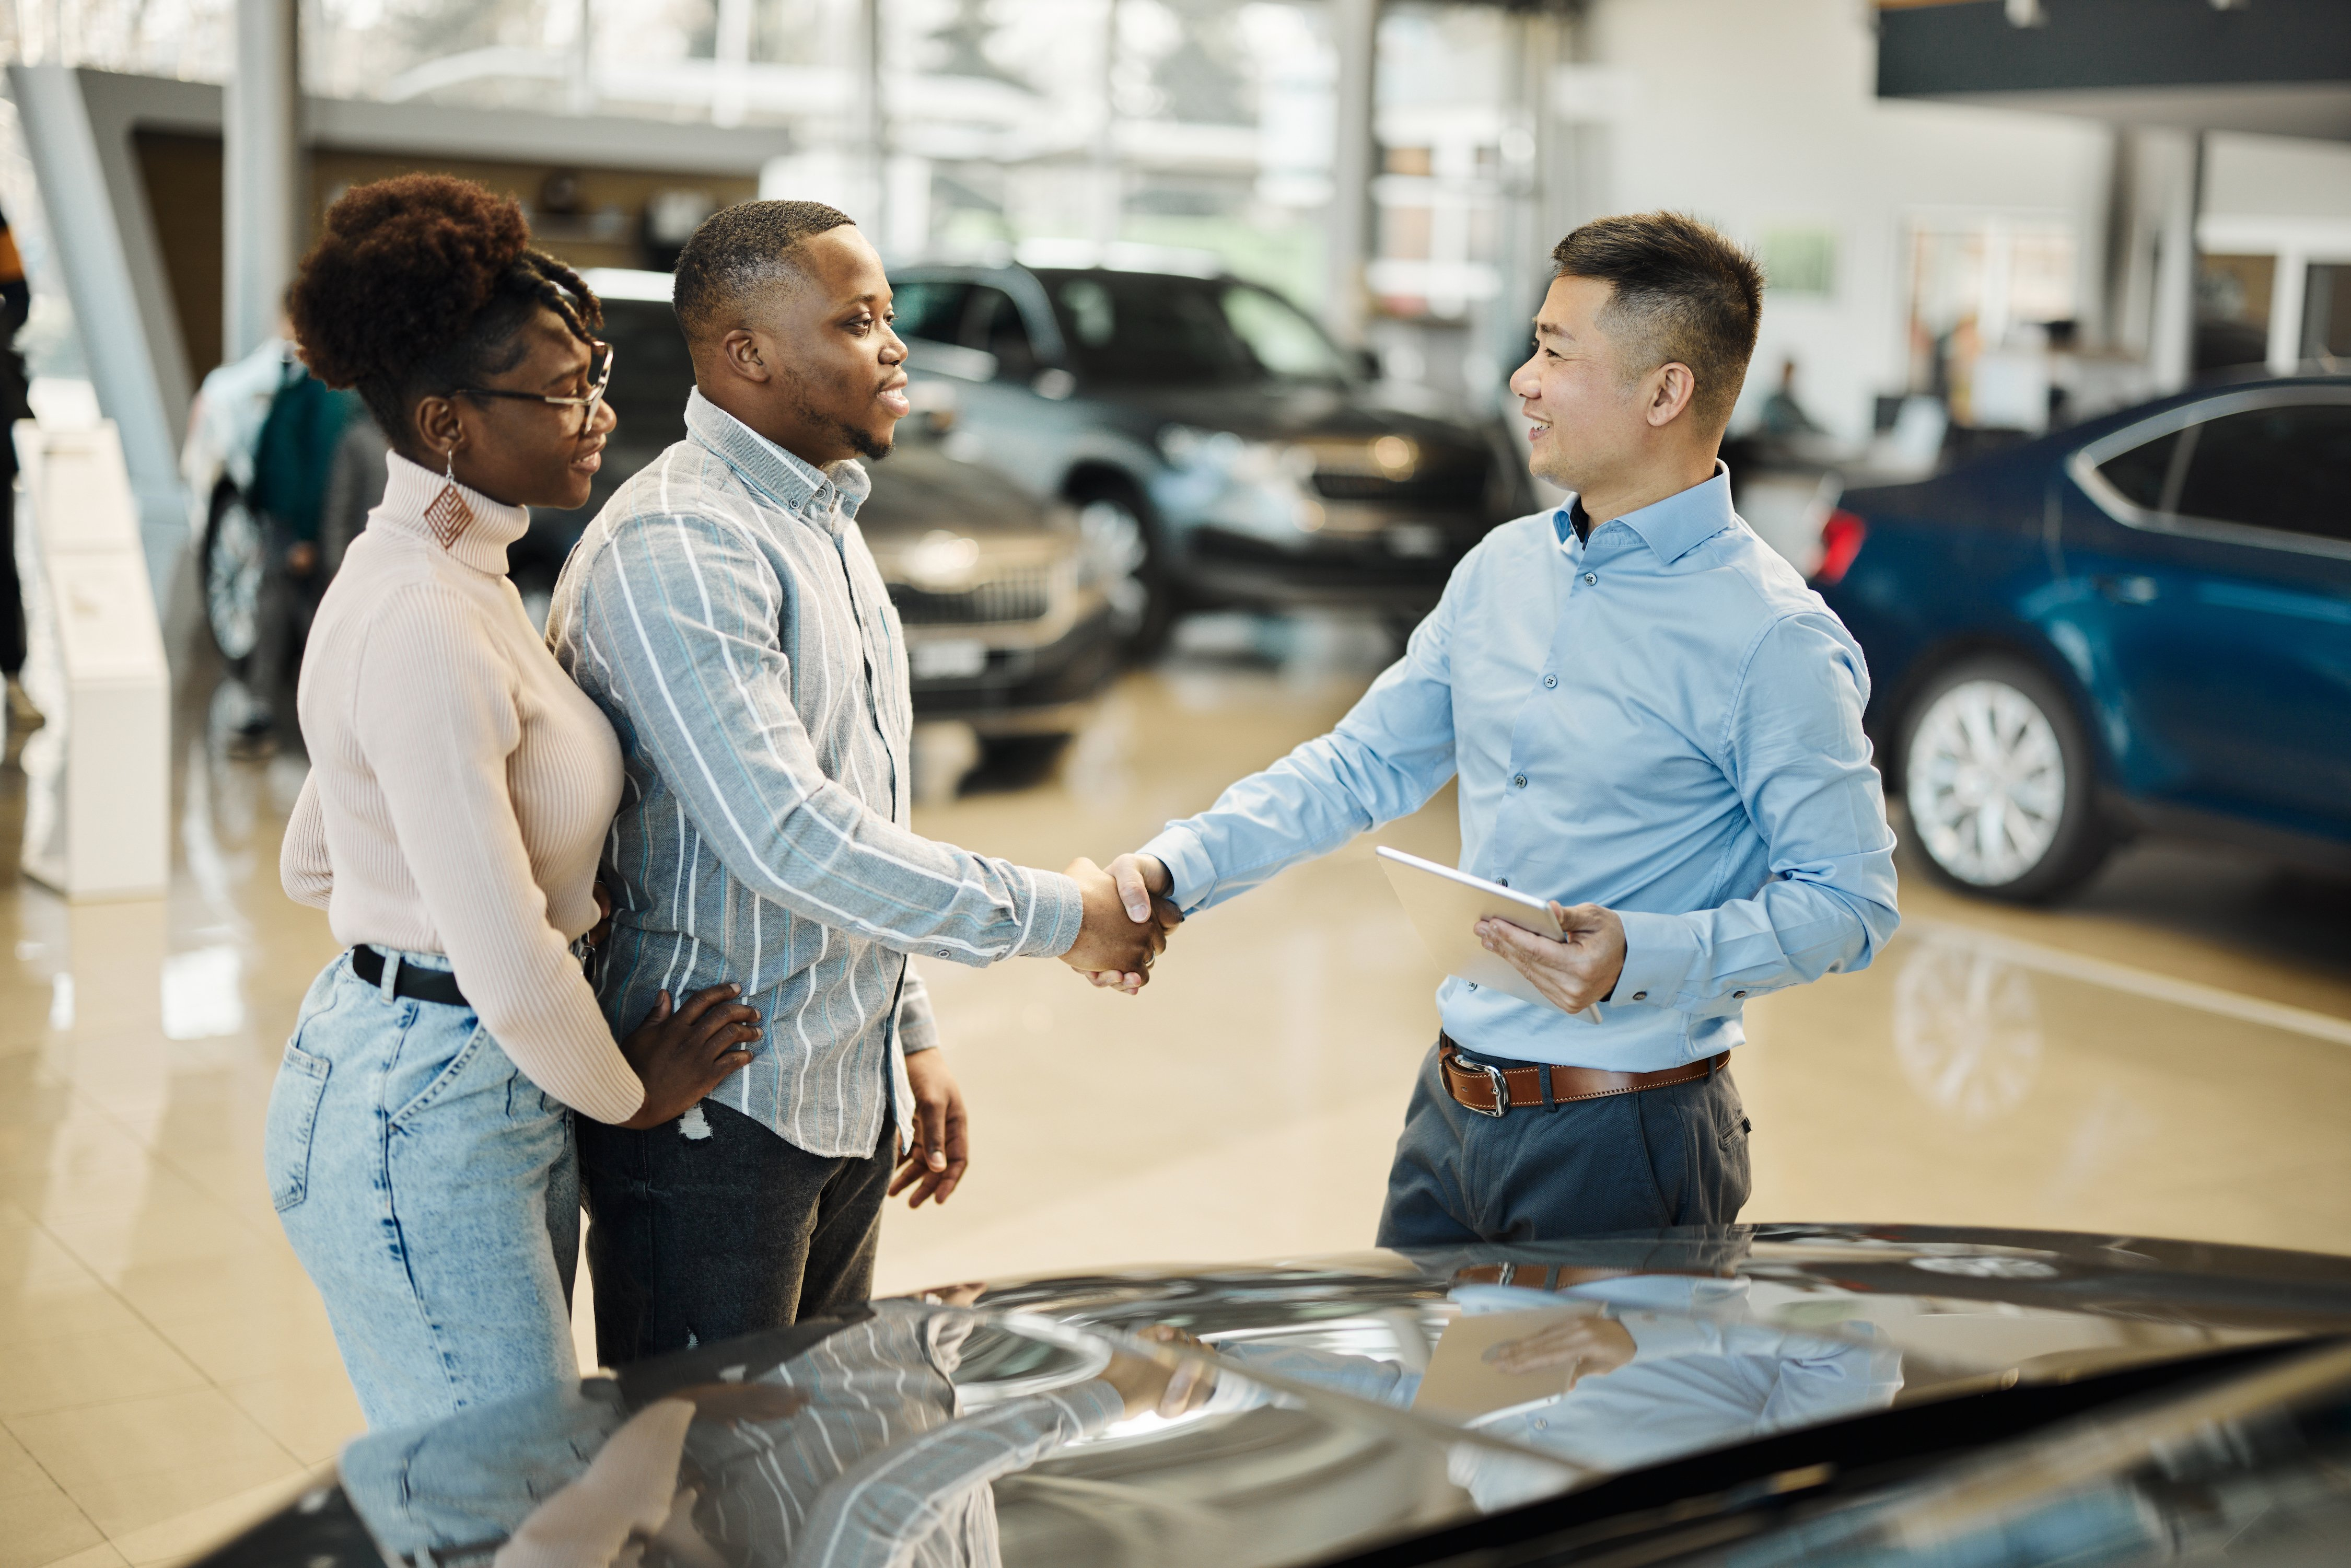person: (329, 189, 613, 509), (1503, 231, 1731, 510), (693, 195, 903, 475)
